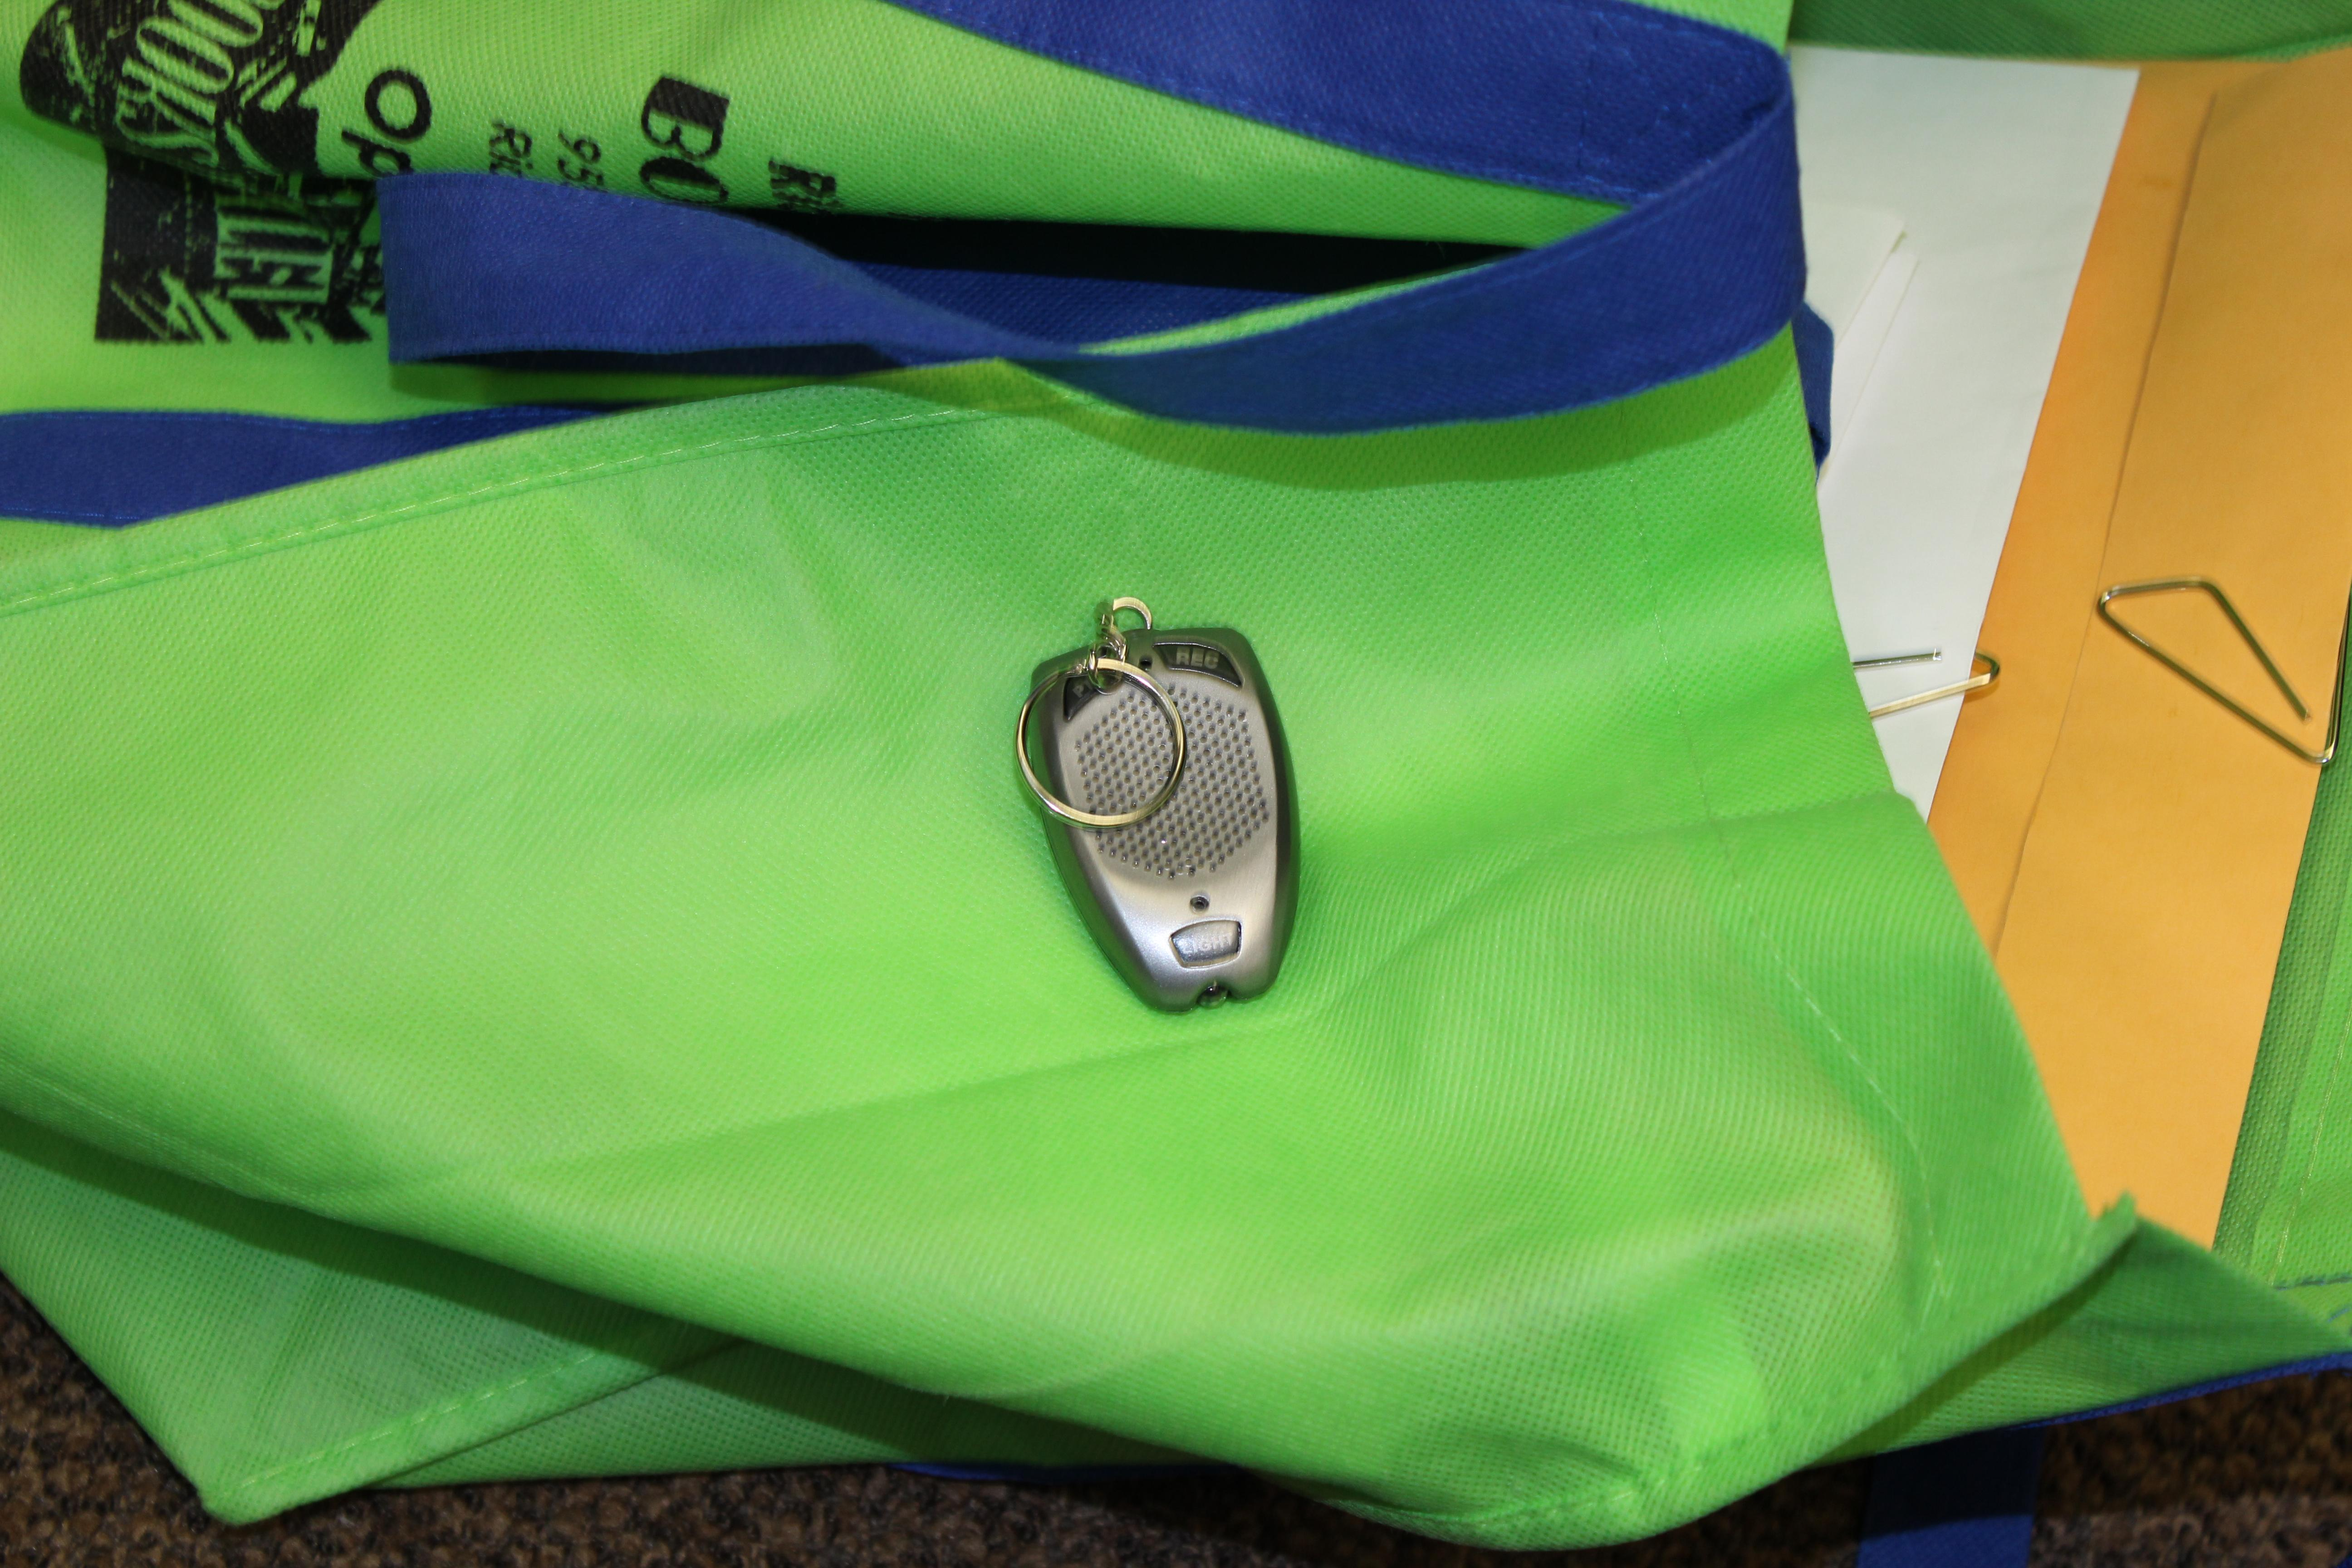voiceRecorder: (978, 563, 1365, 1041)
